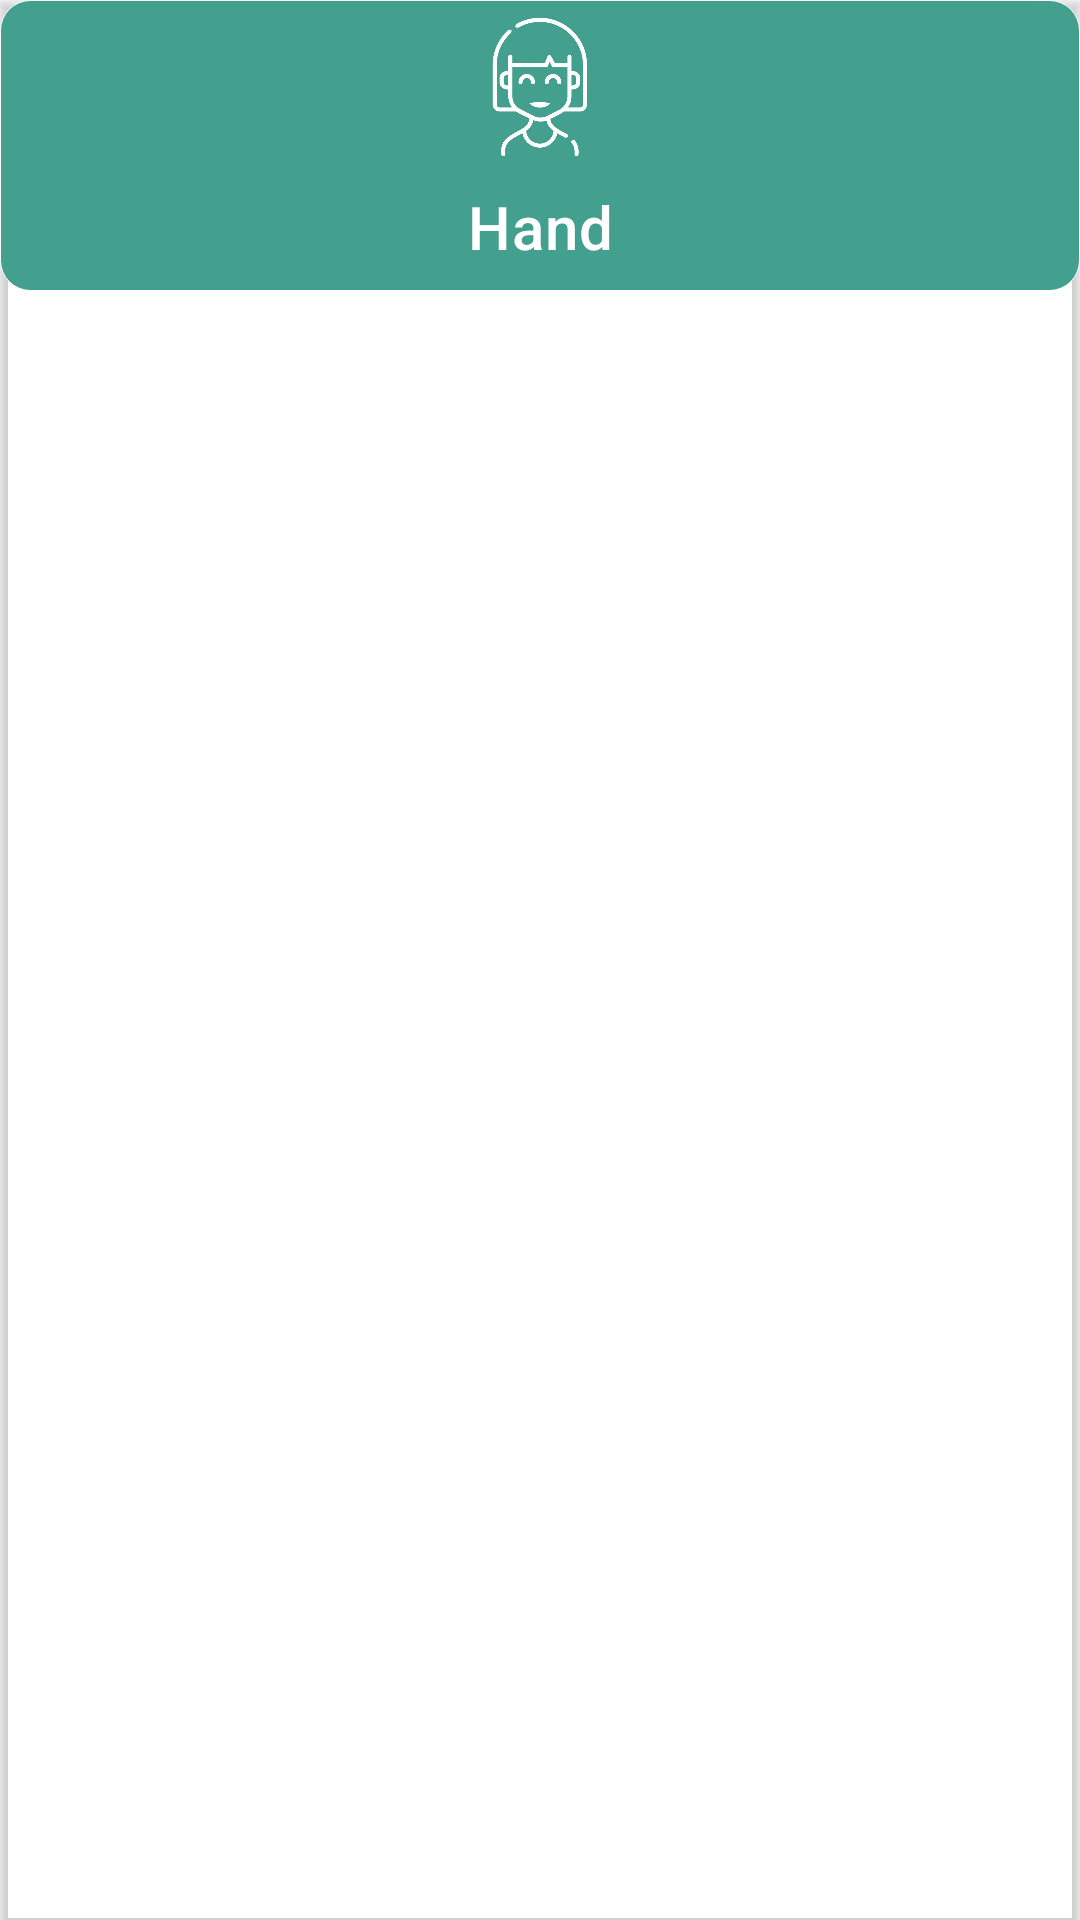

Icon bounding boxes for this 1080*1920 phone screenshot, format (x1, y1, x2, y2):
girl: (492, 18, 587, 156)
